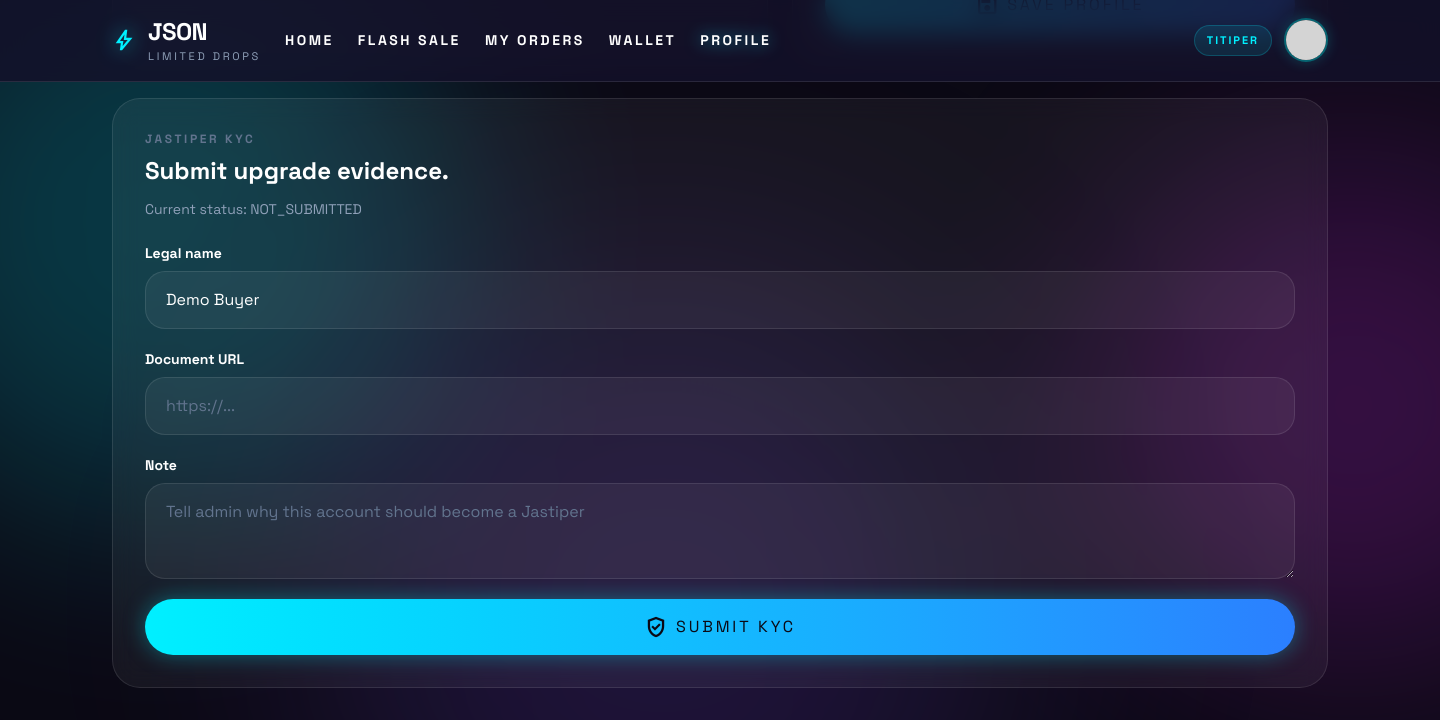
edge page and regression flows › keeps KYC status pending when profile refresh lags after submission
(page scrolled)
Type "https://docs.example/pending.pdf" into the field with test id "kyc-document-url".
click(720, 406); type("https://docs.example/pending.pdf")  # box [145,376,1295,434]
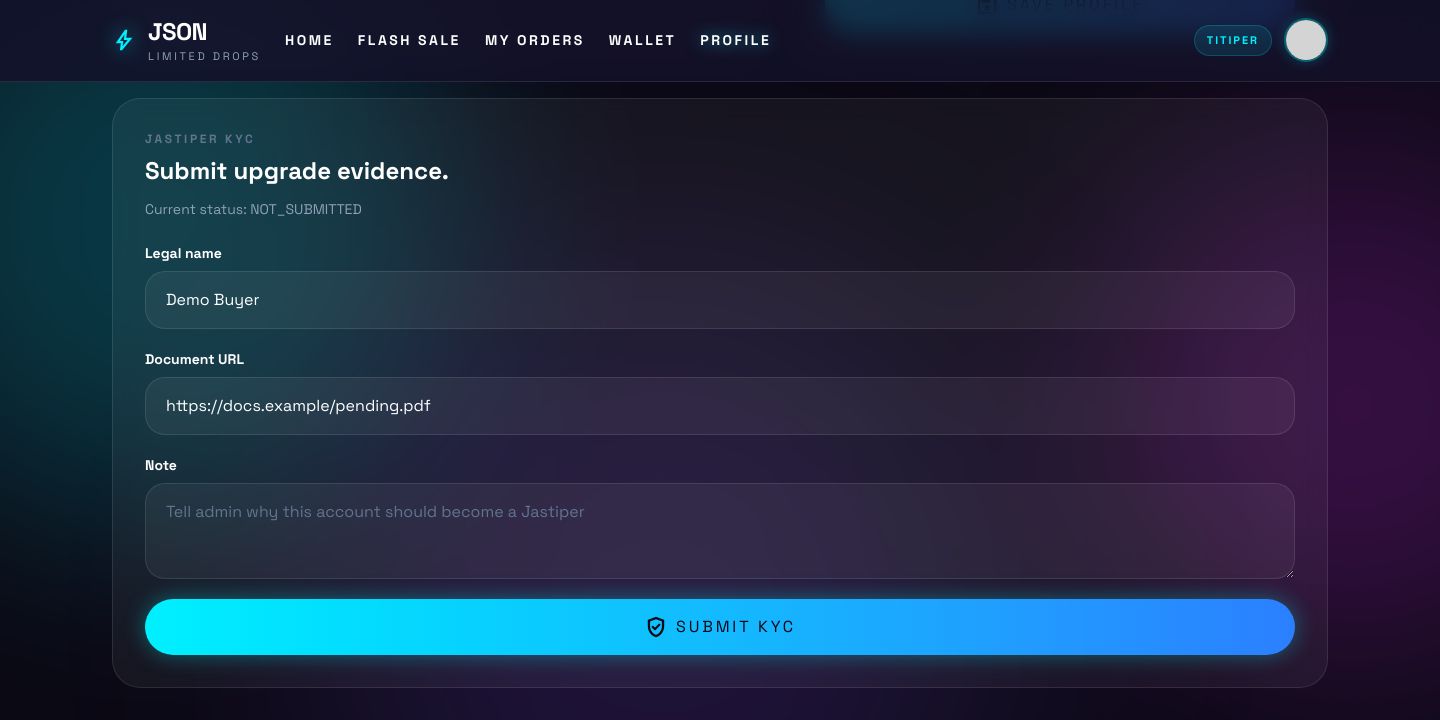
Click the button with test id "submit-kyc-button".
click(720, 626)  # box [145,598,1295,654]
(page scrolled)
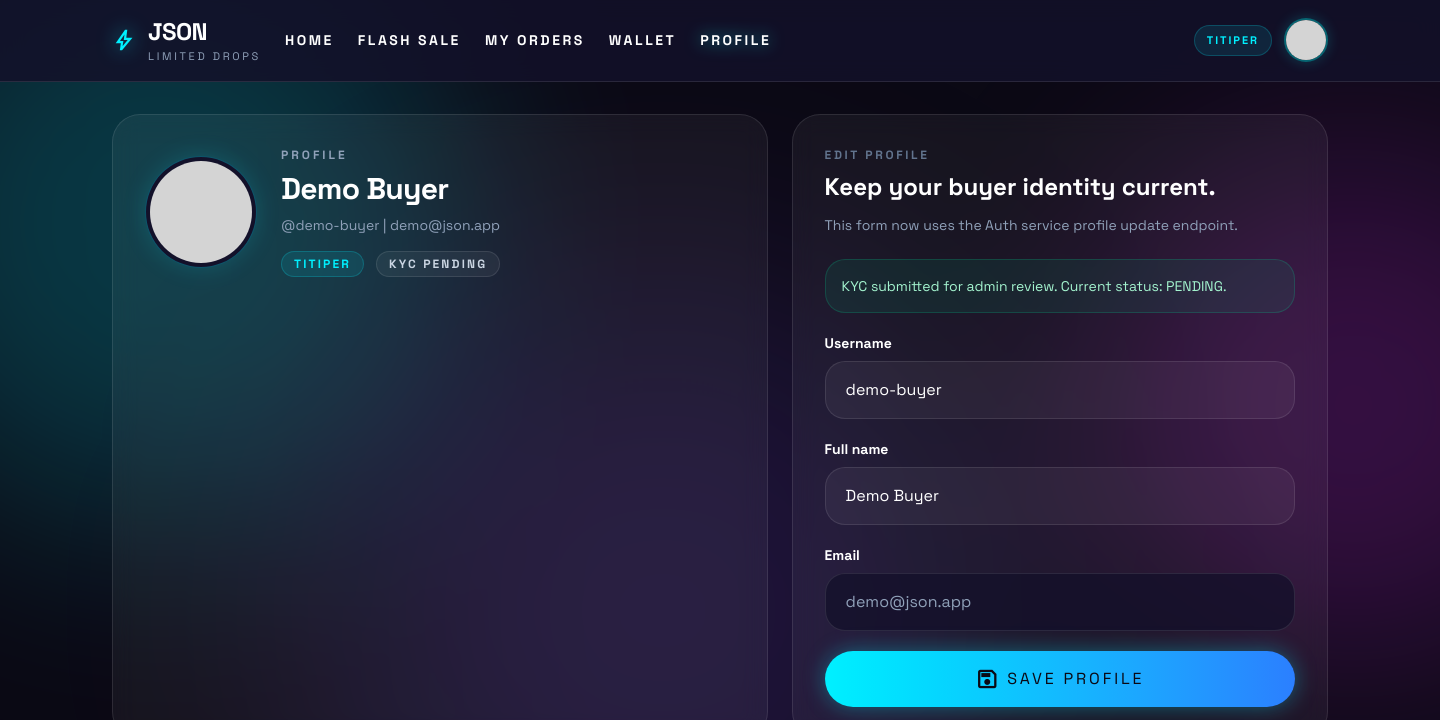
Check: the text "KYC submitted for admin review. Current status: PENDING." is shown, box [825,258,1295,312]
